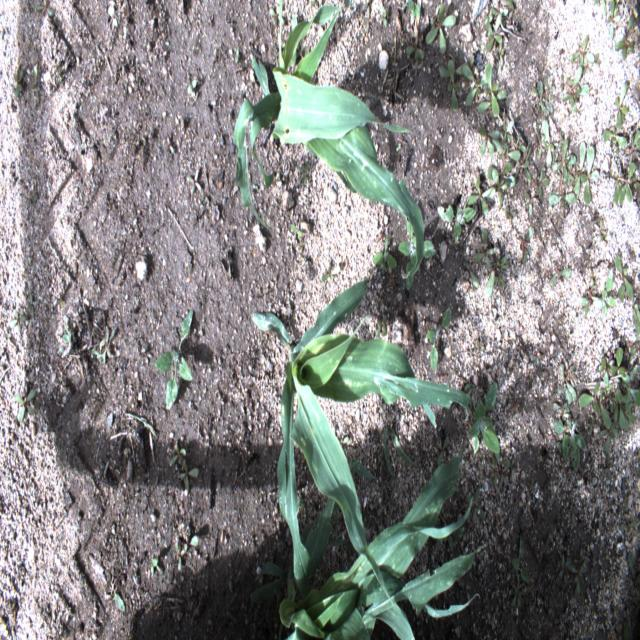crop: (250, 276, 470, 597), (232, 1, 426, 276), (252, 456, 486, 638)
weed: (153, 308, 194, 413), (478, 114, 525, 176), (551, 137, 591, 205), (452, 175, 490, 242), (465, 60, 508, 119), (397, 220, 433, 290), (469, 380, 500, 459), (552, 400, 586, 471), (380, 420, 420, 476), (614, 252, 639, 339), (602, 82, 628, 156), (425, 303, 452, 373), (126, 411, 158, 463), (425, 1, 456, 52), (479, 166, 516, 207), (561, 63, 590, 115), (588, 376, 613, 436), (609, 156, 636, 204), (442, 58, 466, 110), (92, 323, 118, 369), (569, 34, 597, 76), (610, 391, 636, 436), (560, 378, 597, 409), (372, 232, 398, 275), (484, 5, 504, 57), (530, 72, 554, 114), (595, 418, 623, 454), (510, 539, 532, 584), (562, 555, 587, 594), (609, 341, 630, 378), (14, 387, 36, 422), (536, 117, 555, 157), (600, 274, 617, 315), (579, 143, 595, 185), (61, 319, 77, 361), (177, 460, 201, 488), (598, 361, 619, 392), (510, 574, 528, 606), (460, 258, 479, 288), (406, 37, 427, 63), (519, 222, 531, 266), (320, 256, 339, 283), (30, 60, 40, 111), (168, 441, 187, 467), (615, 36, 634, 61), (108, 585, 125, 611), (485, 273, 507, 293), (536, 171, 550, 202), (607, 0, 618, 39), (435, 202, 455, 223), (172, 542, 185, 574), (7, 312, 27, 332), (522, 141, 531, 184), (473, 250, 494, 268), (630, 128, 640, 164), (34, 3, 54, 18), (151, 556, 165, 576), (495, 254, 510, 272), (300, 160, 309, 187), (408, 3, 422, 20), (182, 534, 199, 548), (26, 292, 35, 318), (15, 67, 24, 93), (580, 295, 590, 318), (594, 0, 608, 15), (290, 223, 303, 239), (186, 80, 201, 92), (380, 9, 388, 28), (481, 226, 488, 246), (549, 273, 556, 289), (234, 46, 240, 64), (629, 13, 635, 30), (506, 0, 514, 11)
